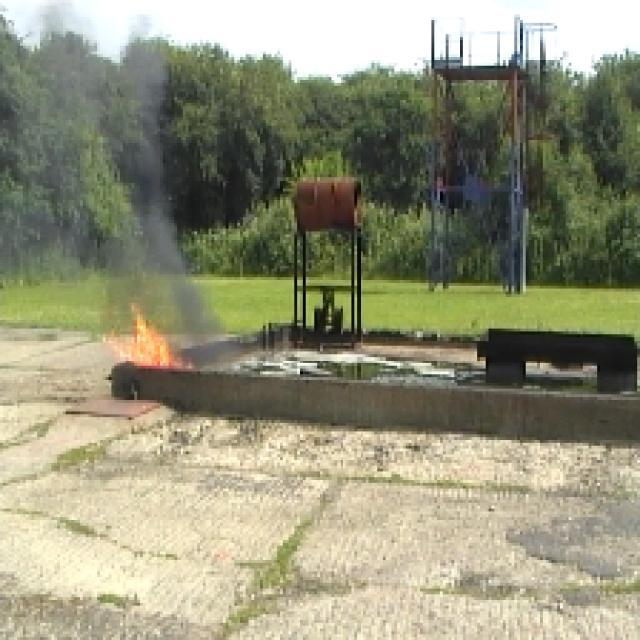Fire: (120, 308, 170, 376)
Smoke: (126, 237, 194, 307)
